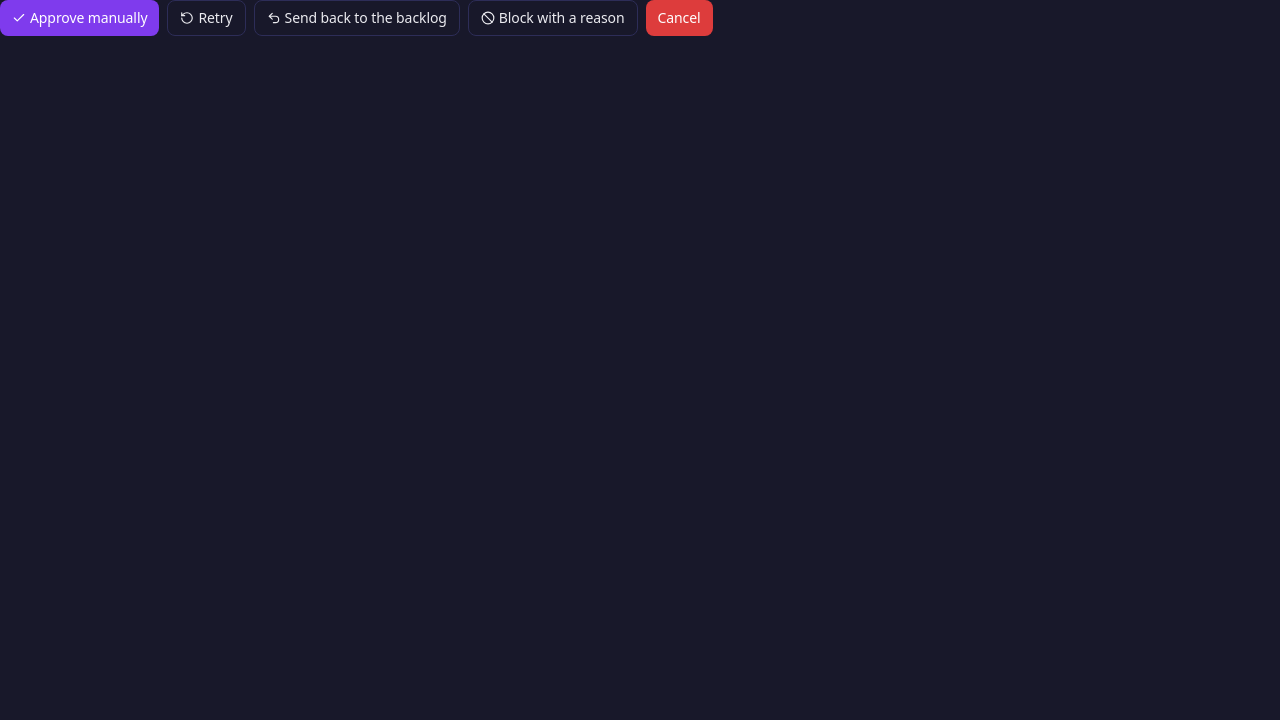
Test: acciones humanas sobre una tarea en los dos idiomas › traduce el diálogo de devolver al backlog con guía
The image size is (1280, 720).
Click the button with test id "reassign-task-1".
click(357, 18)  # box left=254, top=0, right=460, bottom=36
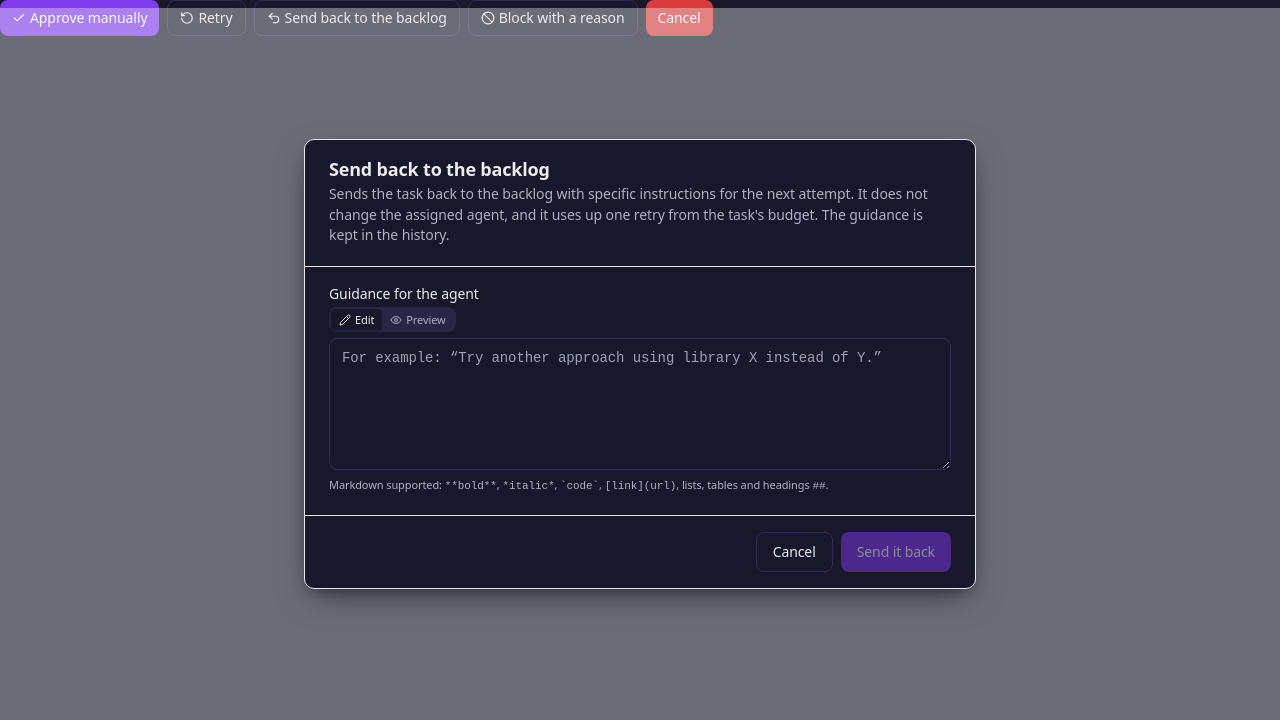
Now the text box with test id "reassign-guidance-edit" is shown, box left=329, top=338, right=951, bottom=470
Now the text "Sends the task back to the backlog" is shown, box left=329, top=184, right=928, bottom=244
Now the text "Guidance for the agent" is shown, box left=329, top=284, right=479, bottom=303
